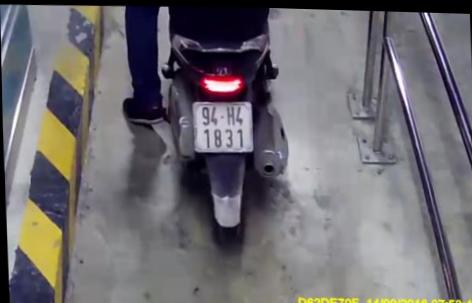LP: (191, 99, 254, 152)
